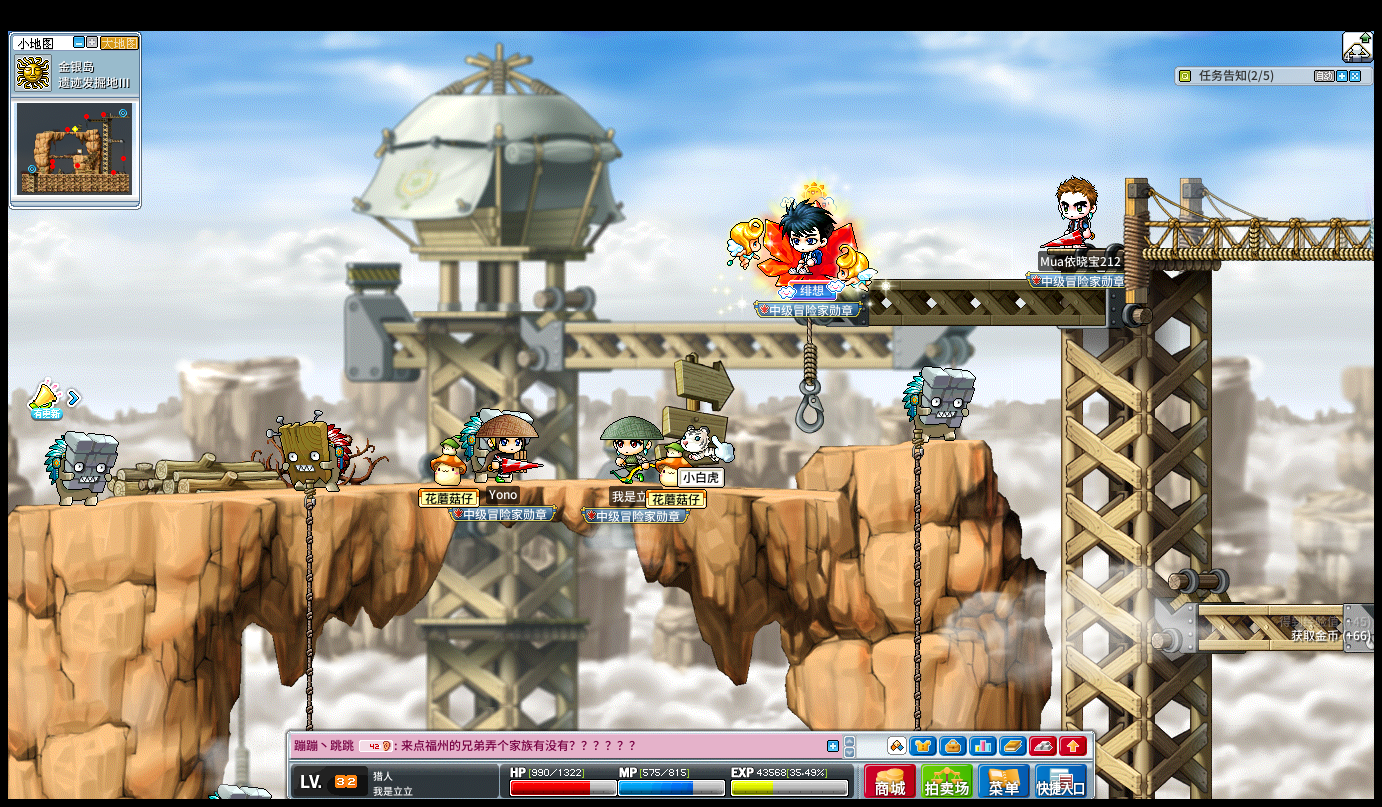floor: (24, 476, 873, 507), (28, 477, 891, 499), (29, 477, 897, 492), (1135, 211, 1374, 230), (1194, 600, 1368, 616), (819, 437, 995, 452)
monster: (271, 412, 352, 494), (44, 430, 118, 507), (902, 365, 975, 442)
rope: (909, 425, 924, 730), (302, 476, 315, 729)
